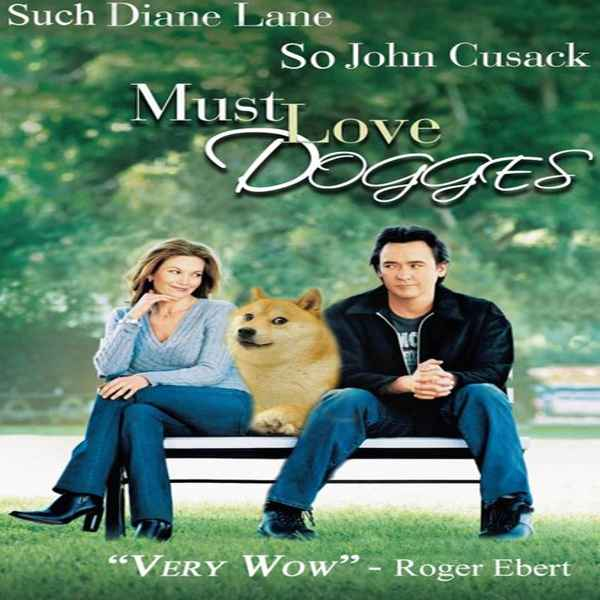doge: (228, 286, 326, 361)
